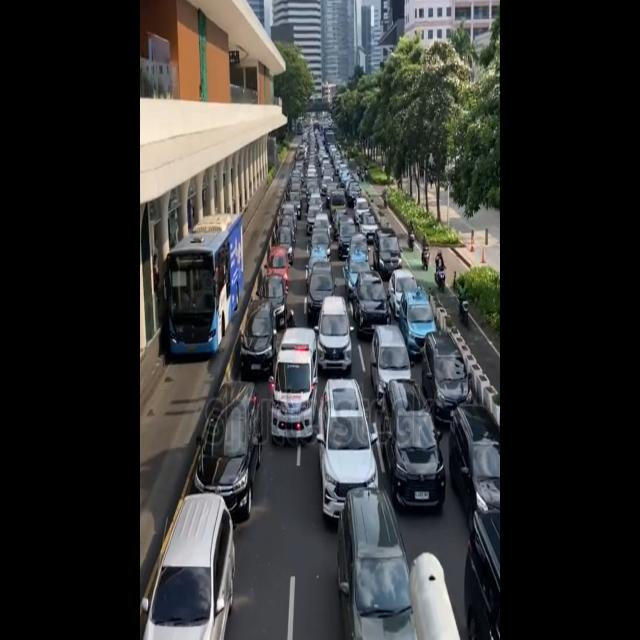Ambulance: (266, 319, 324, 441)
